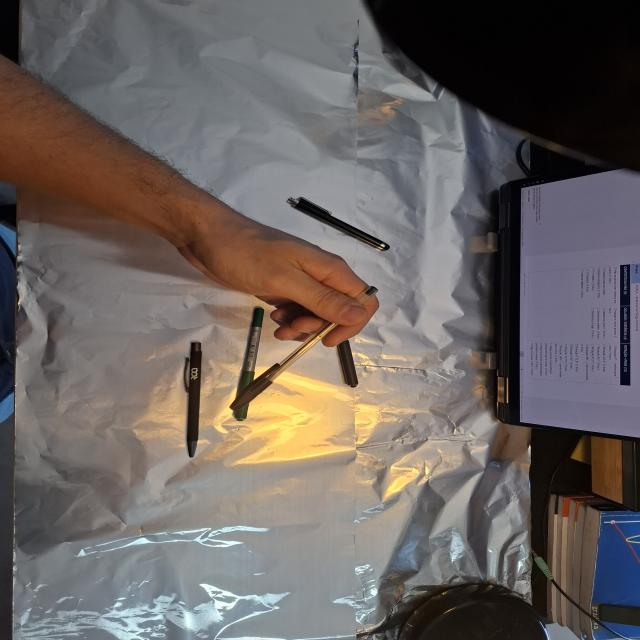glove_off: (174, 201, 382, 349)
